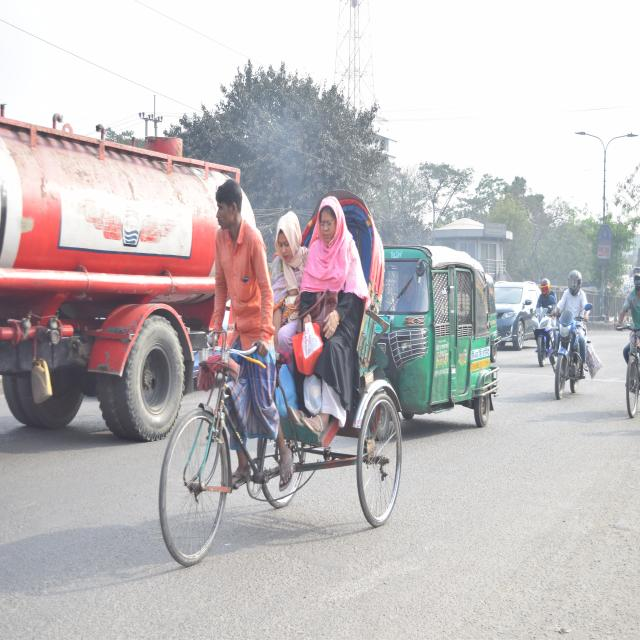car: (484, 266, 534, 352)
motorbike: (546, 292, 595, 402), (524, 288, 554, 370)
truck: (0, 103, 257, 453)
